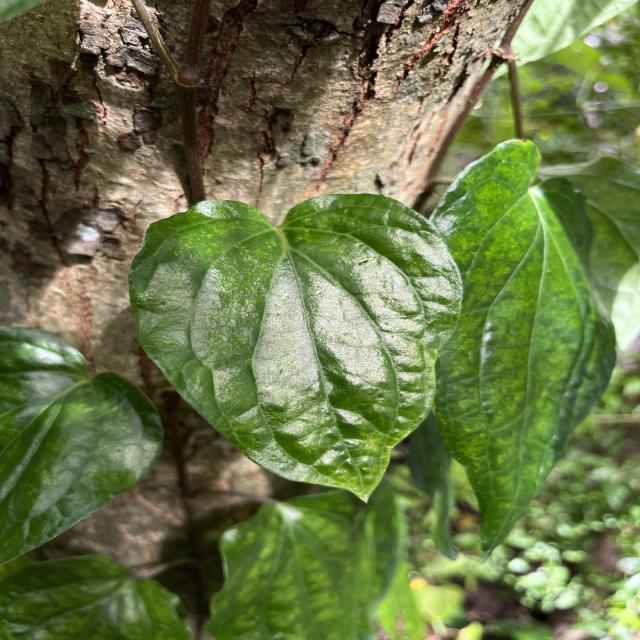Piper betle: (124, 190, 470, 510)
